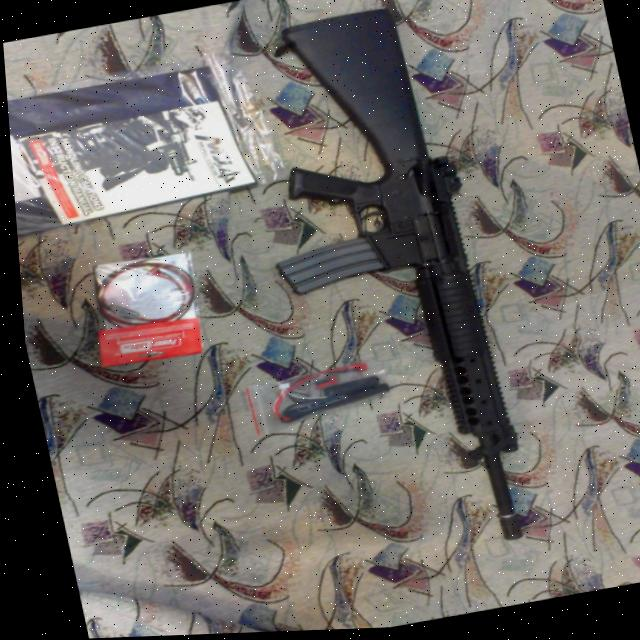rocket: (229, 1, 532, 573)
